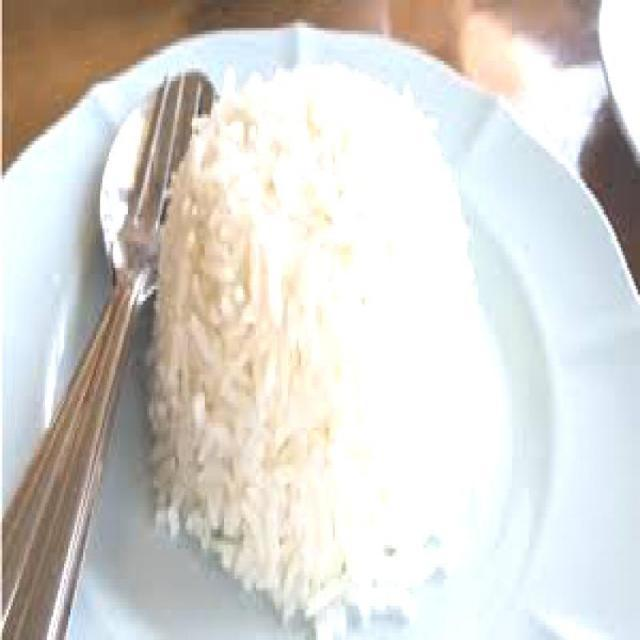Chicken -Chicken Inasal-: (156, 66, 344, 616)
